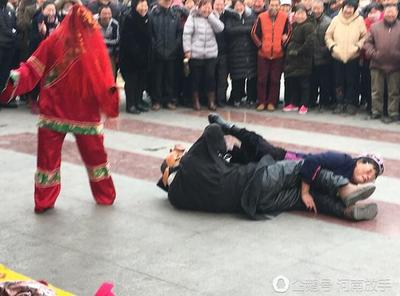10+: (1, 1, 400, 223)
down: (218, 118, 386, 199), (152, 146, 282, 217)
